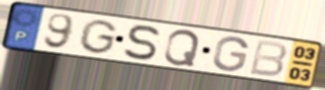9: (43, 13, 77, 51)
B: (247, 38, 289, 79)
G: (76, 18, 120, 56), (210, 35, 251, 73)
Q: (162, 29, 202, 68)
S: (122, 24, 163, 62)
